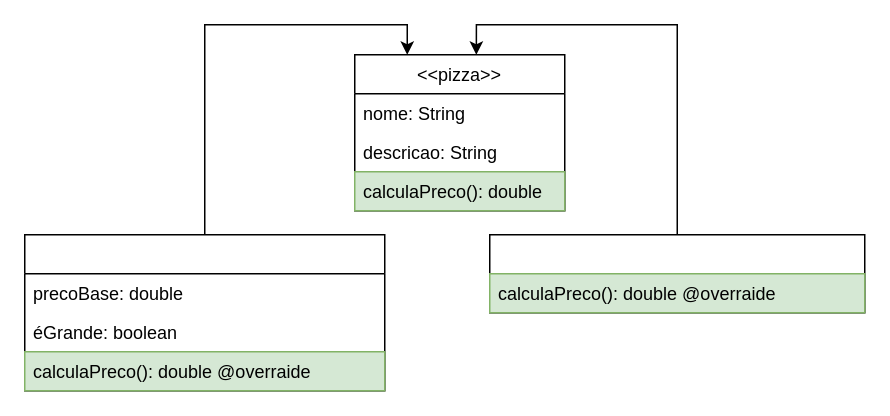
The diagram is 890 pixels wide and 416 high, and some of its shapes have lost their labels. Each missing label, with the box of its shape:
pizzaCombinada: (488, 233, 865, 313)
pizzaSimples: (23, 233, 385, 391)
